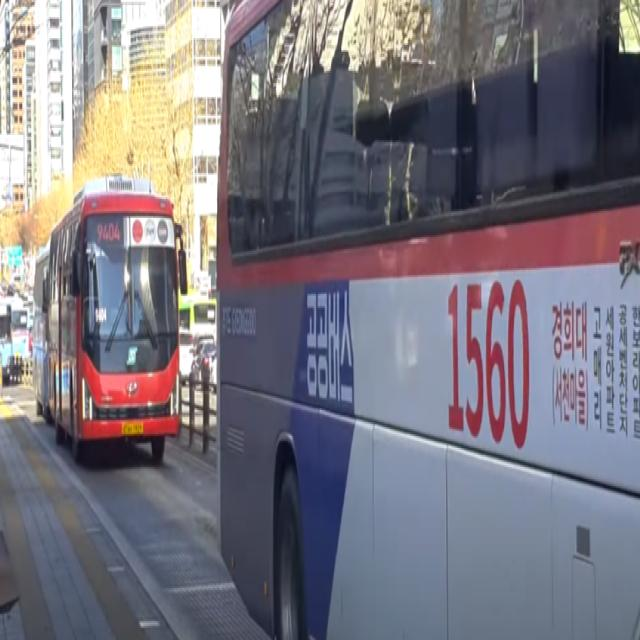bus-number: (96, 220, 121, 244)
